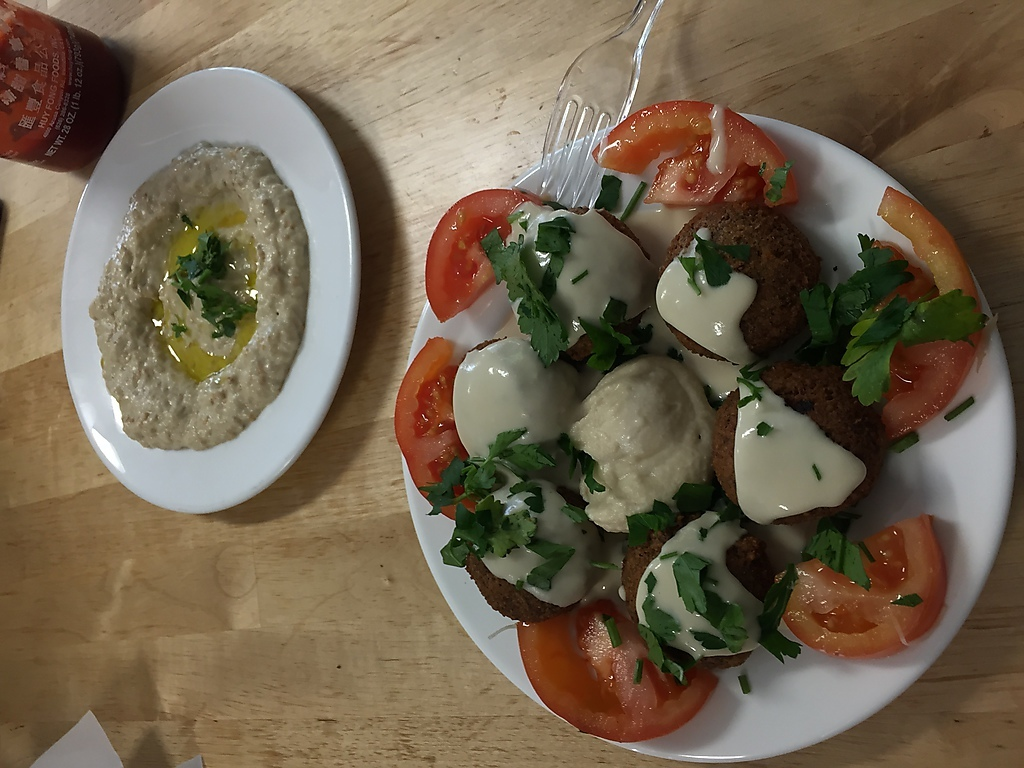salad: (394, 96, 993, 750)
